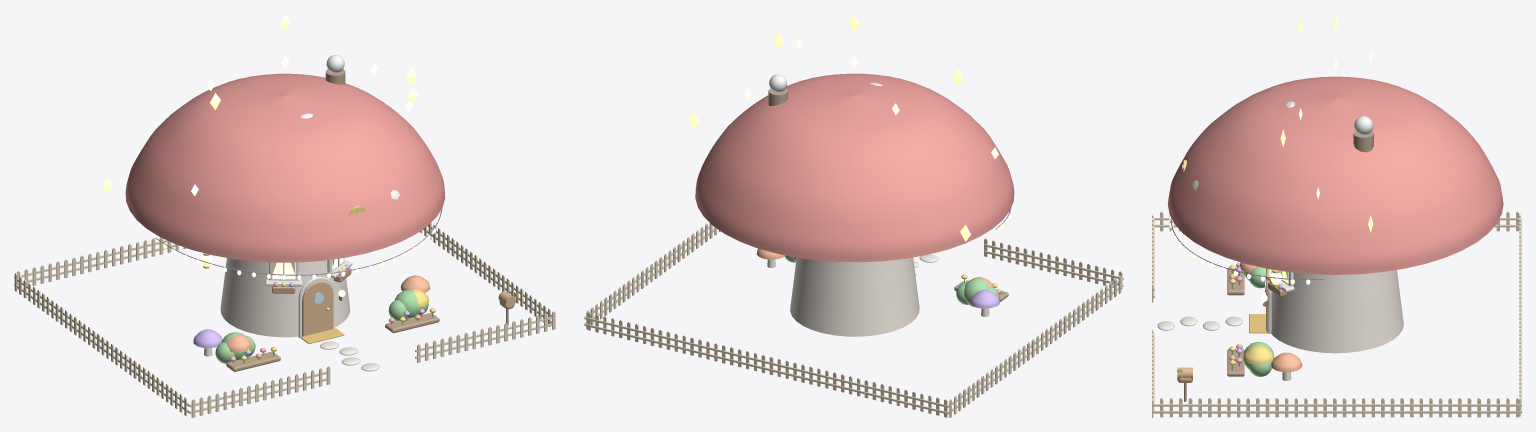
File: building_forest_L10.glb
3 views of the same model, side by side, from view 1: azimuth 30°, elevation 25°; view 2: azimuth 150°, elevation 25°; view 3: azimuth 270°, elevation 25° (orthographic). The views are drawn at different scales.
Visible parts, largest first — view 1: Body, forest_L10; view 2: Body, forest_L10; view 3: Body, forest_L10.
Part boxes in pixels (x1,y1,x2,y2): Body: (125,56,445,356); forest_L10: (14,14,555,417); Body: (695,38,1014,336); forest_L10: (584,14,1123,417); Body: (1168,51,1503,380); forest_L10: (1152,14,1521,417).
Bounding box in the file's own units: 25.35 × 19.77 × 21.15.
